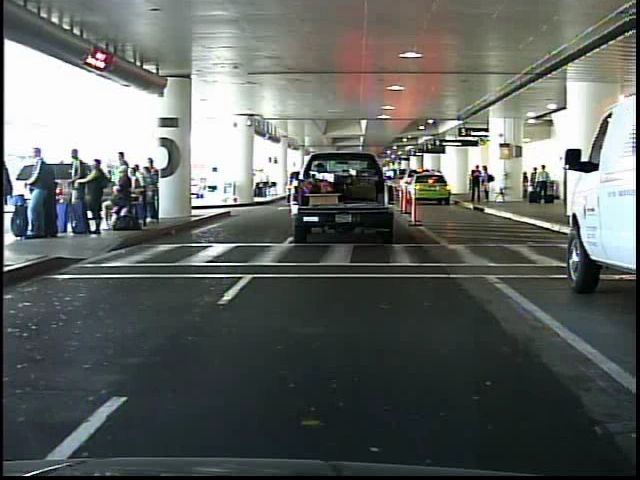person: (478, 165, 493, 205), (468, 162, 481, 205)
